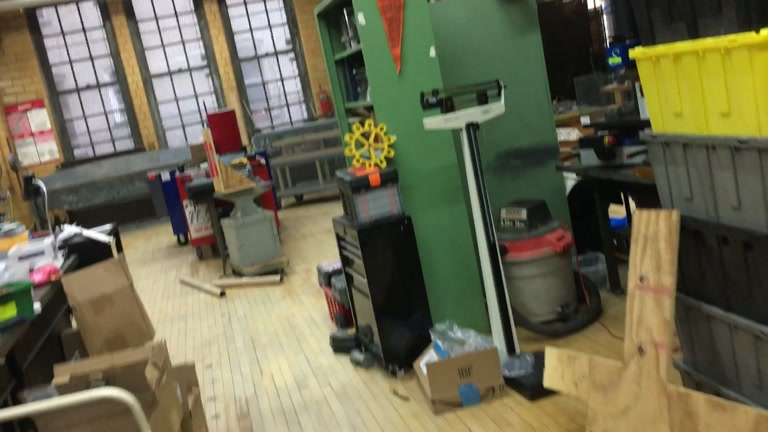gear: (343, 118, 394, 170)
